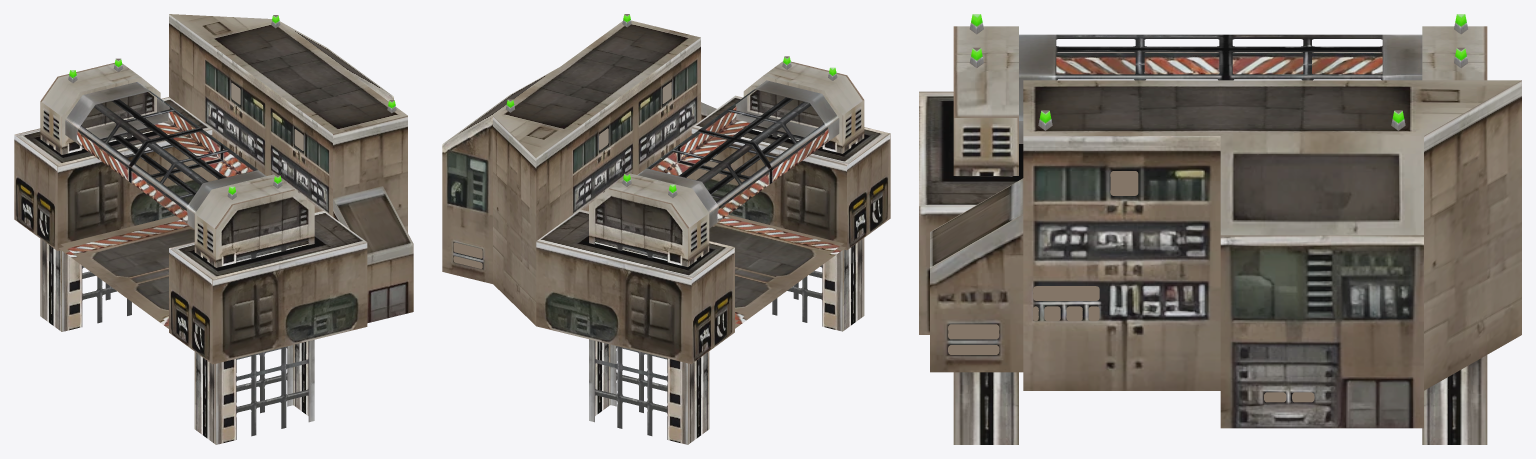
Rendered from repairbay_hdtex.glb.
3 renders of one model, left to right at view 1: azimuth 30°, elevation 25°; view 2: azimuth 150°, elevation 25°; view 3: azimuth 270°, elevation 25°, orthographic. The views are drawn at different scales.
Parts seen in each view (by area): view 1: RepairBay, LOS_Gantry, Ramp, floor, LOS_Beacon_Green; view 2: RepairBay, LOS_Gantry, Ramp, LitWin_RepairBay, floor; view 3: RepairBay, LOS_Gantry, LitWin_RepairBay, LOS_Beacon_Green.
Boxes of the visible parts, box(x1,y1,x2,y2) form: RepairBay: box(14, 14, 413, 364); LOS_Gantry: box(40, 62, 314, 444); Ramp: box(61, 215, 194, 323); floor: box(59, 247, 168, 328); LOS_Beacon_Green: box(68, 58, 282, 199); RepairBay: box(442, 20, 890, 364); LOS_Gantry: box(589, 61, 864, 444); Ramp: box(709, 215, 843, 322); LitWin_RepairBay: box(453, 82, 671, 268); floor: box(735, 246, 845, 328); RepairBay: box(919, 80, 1521, 428); LOS_Gantry: box(953, 26, 1487, 444); LitWin_RepairBay: box(948, 171, 1314, 402); LOS_Beacon_Green: box(969, 14, 1468, 67).
Size of the model in its own units: 15.86 by 14.69 by 19.42.
2 materials, 2 textured.
